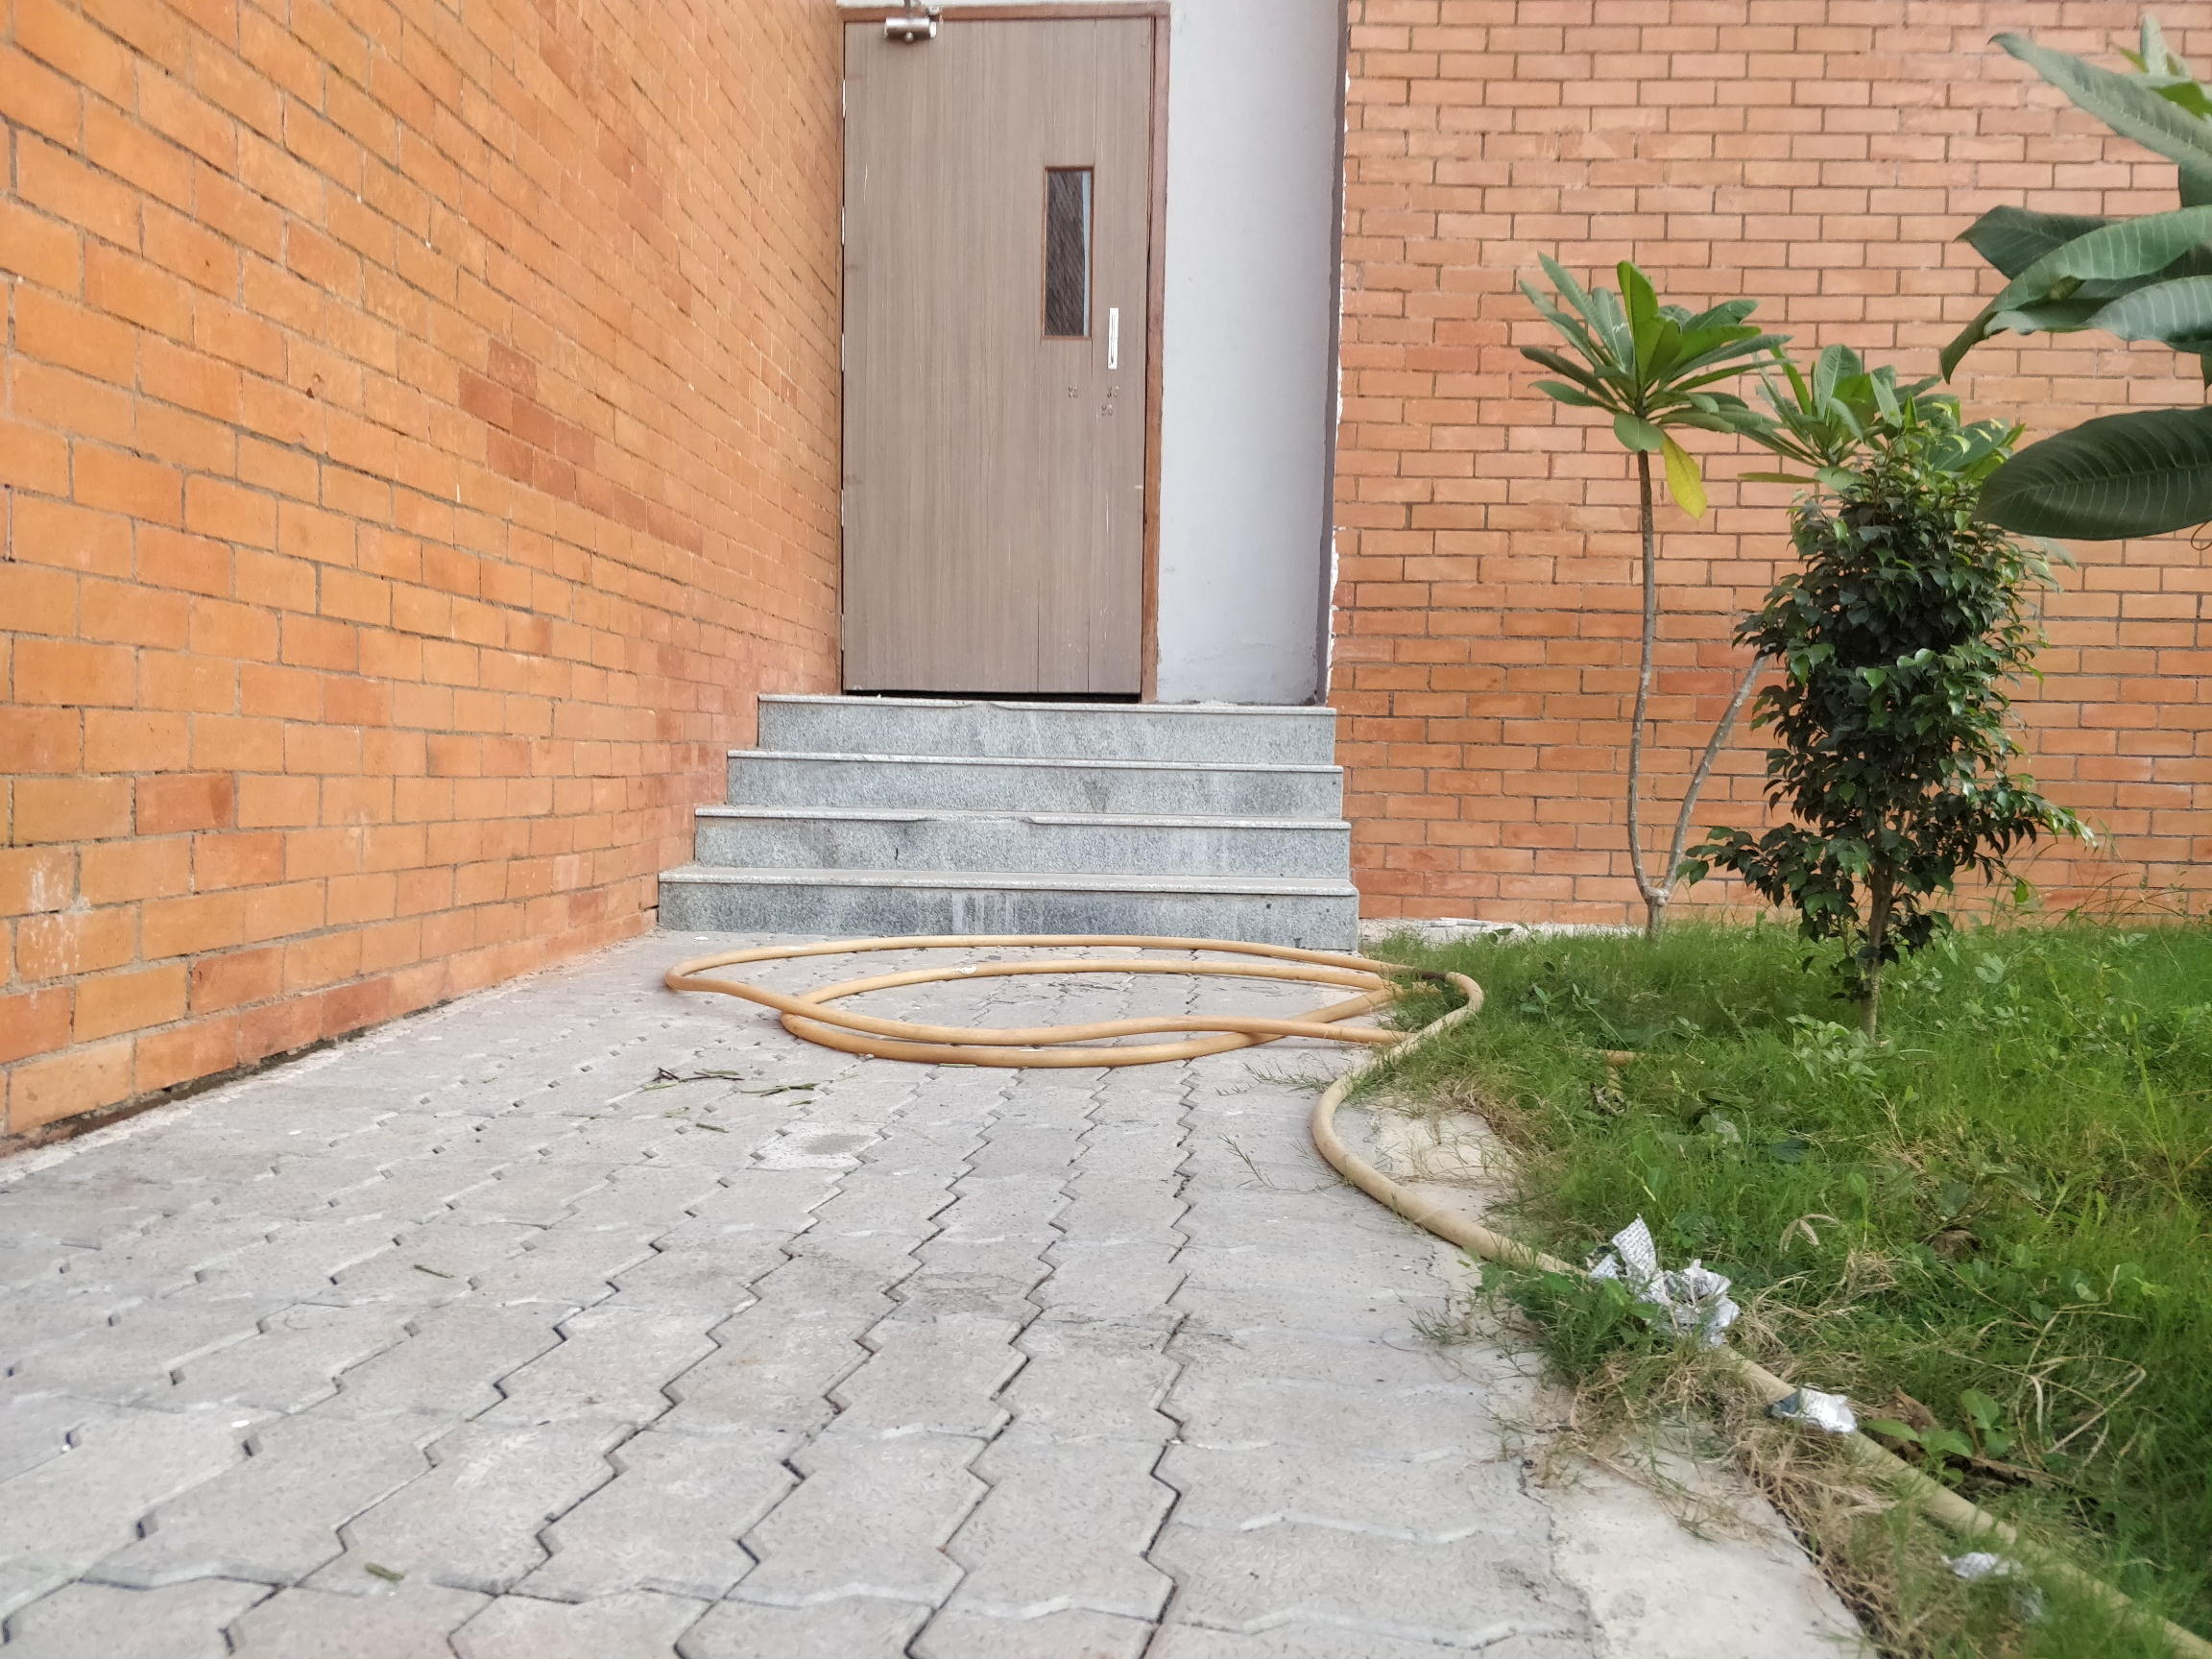stairs_up: (653, 683, 1364, 948)
